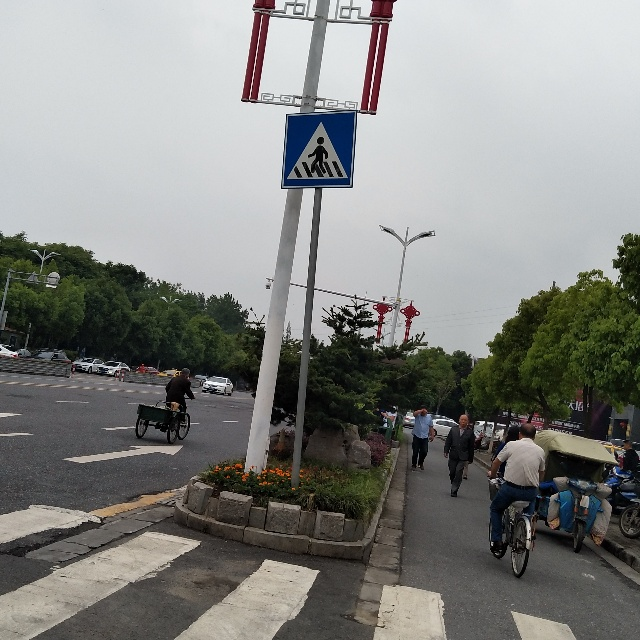crosswalk: (288, 113, 360, 184)
